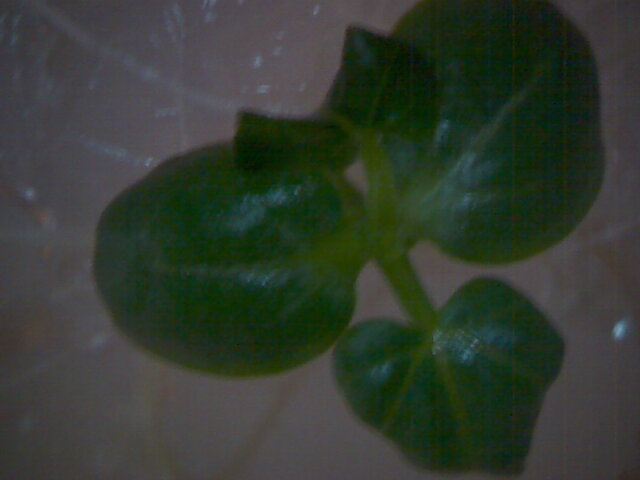lil_plant: (59, 15, 639, 464)
